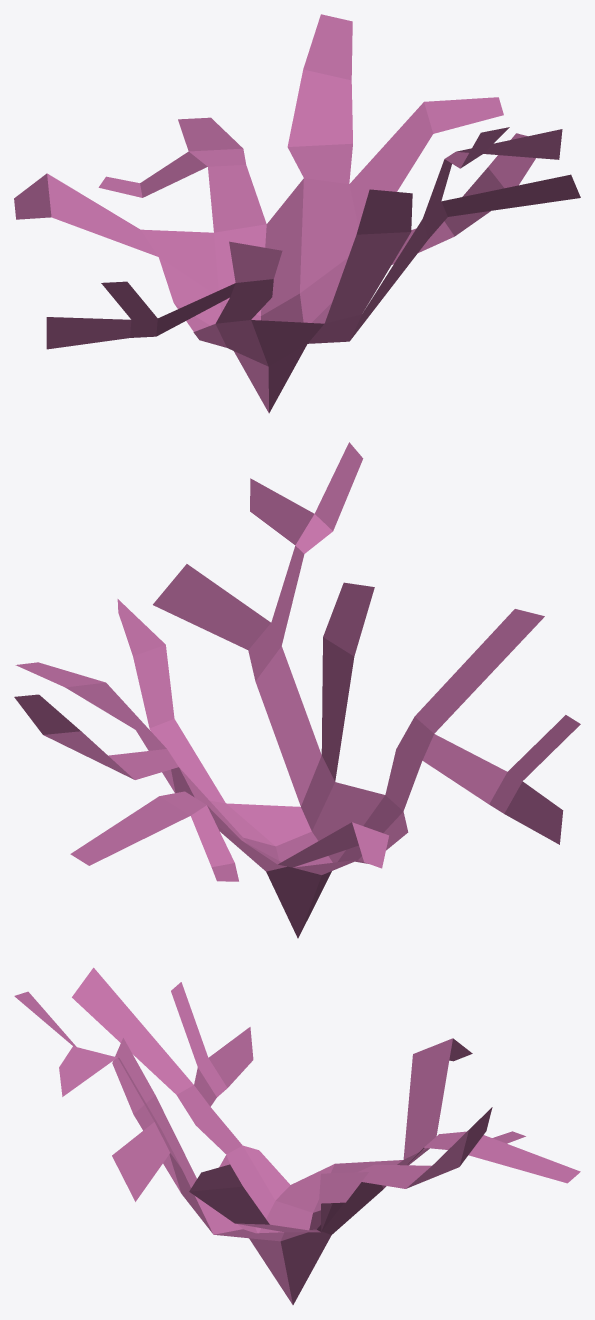
File: coral_4.fbx
3 views of the same model, one above another, from view 1: azimuth 30°, elevation 25°; view 2: azimuth 150°, elevation 25°; view 3: azimuth 270°, elevation 25° (orthographic). The views are drawn at different scales.
Parts seen in each view (by area): view 1: coral_4; view 2: coral_4; view 3: coral_4.
Part boxes in pixels (bbox=[...]): coral_4: bbox=[14, 14, 580, 413]; coral_4: bbox=[14, 442, 580, 938]; coral_4: bbox=[14, 967, 580, 1304].
Size of the model in its own units: 264 by 186 by 270.
